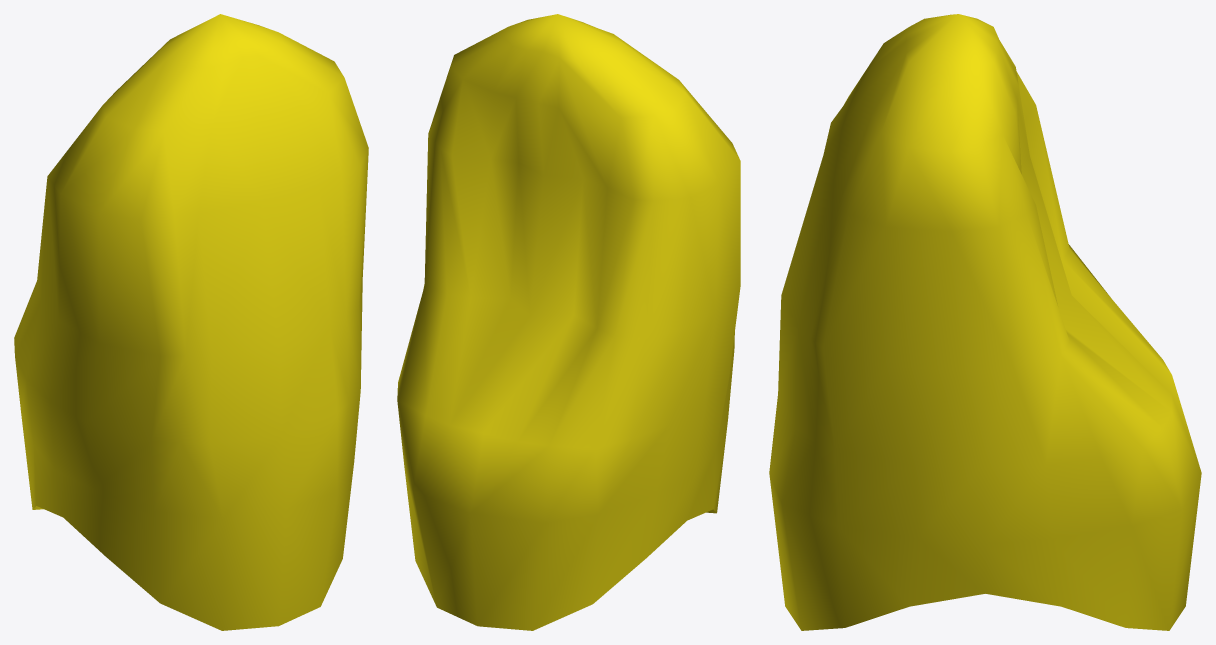
File: D43N_NUC.obj
3 renders of one model, left to right at view 1: azimuth 30°, elevation 25°; view 2: azimuth 150°, elevation 25°; view 3: azimuth 270°, elevation 25°, orthographic. The views are drawn at different scales.
Visible parts, largest first — view 1: D43N_NUC; view 2: D43N_NUC; view 3: D43N_NUC.
Boxes of the visible parts, x1=… form: D43N_NUC: x1=14, y1=14, x2=368, y2=630; D43N_NUC: x1=397, y1=14, x2=740, y2=630; D43N_NUC: x1=769, y1=14, x2=1201, y2=630.
Size of the model in its own units: 4.18 by 7.66 by 4.97.
